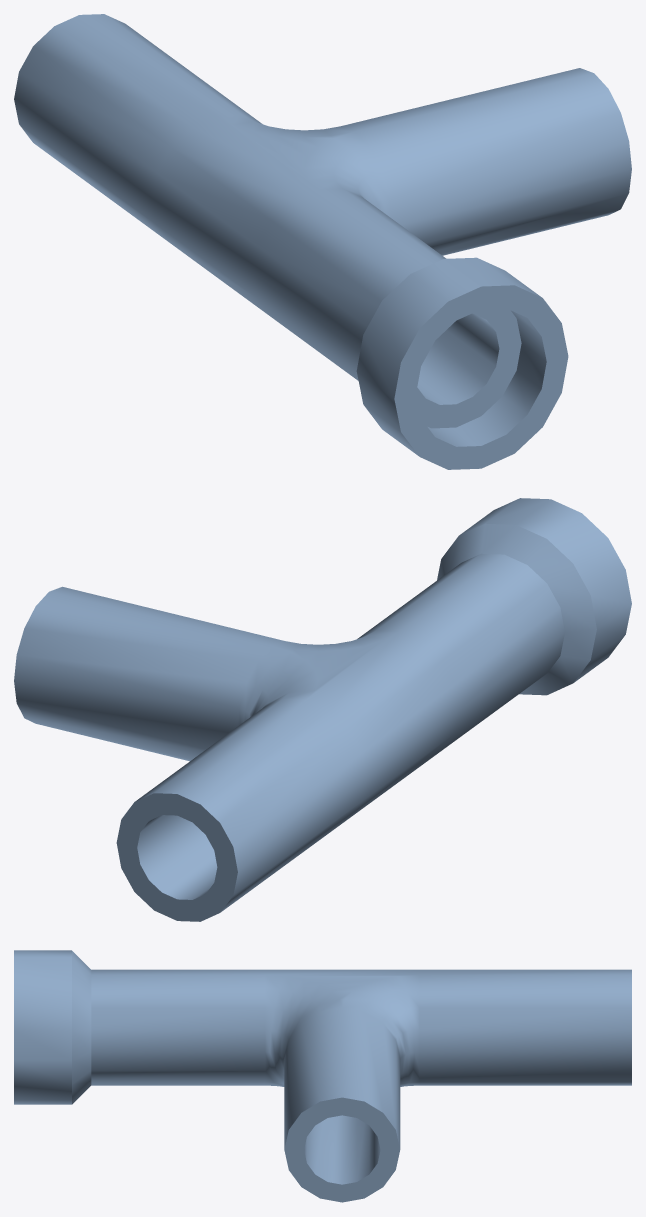
The model's file is BlueMetalDecorationSmallPipeTjunctionwConnector1.fbx.
The picture shows the model from 3 angles, top to bottom: view 1: azimuth 30°, elevation 25°; view 2: azimuth 150°, elevation 25°; view 3: azimuth 270°, elevation 25°; orthographic projection. The views are drawn at different scales.
Visible parts, largest first — view 1: BlueMetalDecorationSmallPipeTjunctionwConnector1; view 2: BlueMetalDecorationSmallPipeTjunctionwConnector1; view 3: BlueMetalDecorationSmallPipeTjunctionwConnector1.
Part boxes in pixels (x1,y1,x2,y2): BlueMetalDecorationSmallPipeTjunctionwConnector1: (14, 14, 631, 469); BlueMetalDecorationSmallPipeTjunctionwConnector1: (14, 498, 631, 921); BlueMetalDecorationSmallPipeTjunctionwConnector1: (14, 950, 631, 1202).
Size of the model in its own units: 190 by 80 by 320.
